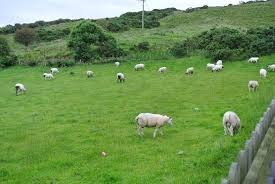sheep: (131, 112, 178, 136), (222, 109, 245, 137), (248, 79, 261, 94), (132, 62, 147, 74), (186, 66, 198, 78), (115, 70, 126, 82), (112, 59, 122, 72), (51, 65, 62, 75), (259, 68, 268, 80), (13, 83, 25, 92), (215, 57, 225, 67), (43, 72, 53, 82), (248, 57, 260, 65), (212, 65, 224, 73), (86, 70, 95, 80), (158, 66, 170, 73), (267, 63, 275, 73), (206, 61, 213, 71)
